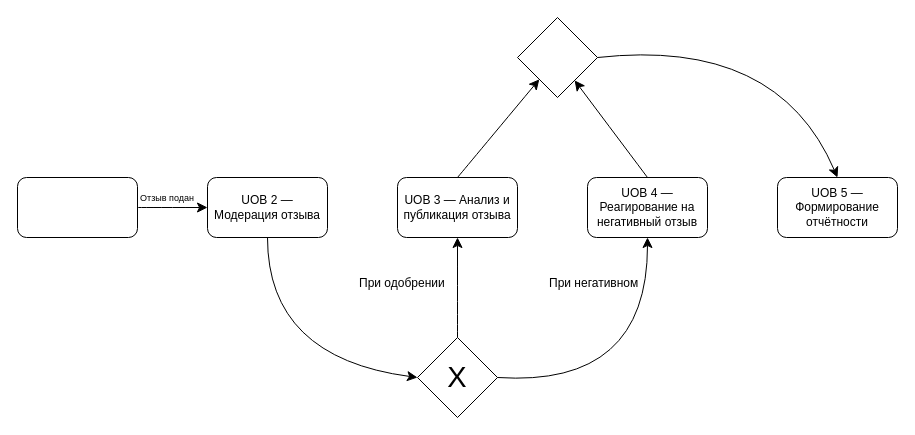
Some shapes in this 915 by 435 pixel diagram are drawn without their labels. Here are the shapes that lost their labels. From the top down, the box of each, then its label:
(516, 16, 598, 98): XOR
(16, 176, 138, 238): UOB 1 — Подача отзыва клиентом
